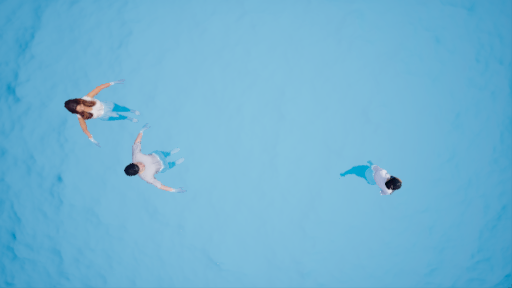person: (56, 80, 144, 135), (118, 136, 194, 194), (339, 153, 417, 200)
